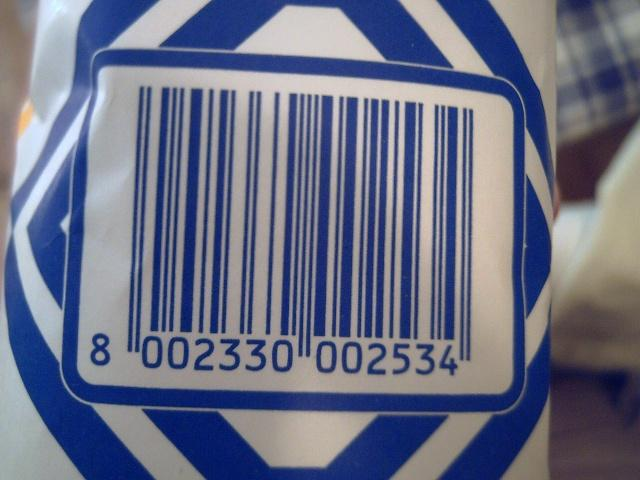Barcode: (60, 53, 525, 413)
